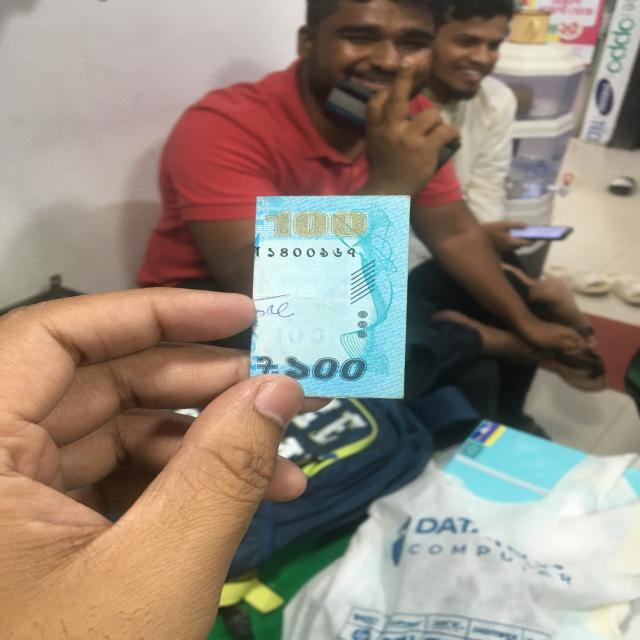Taka: (253, 191, 405, 398)
